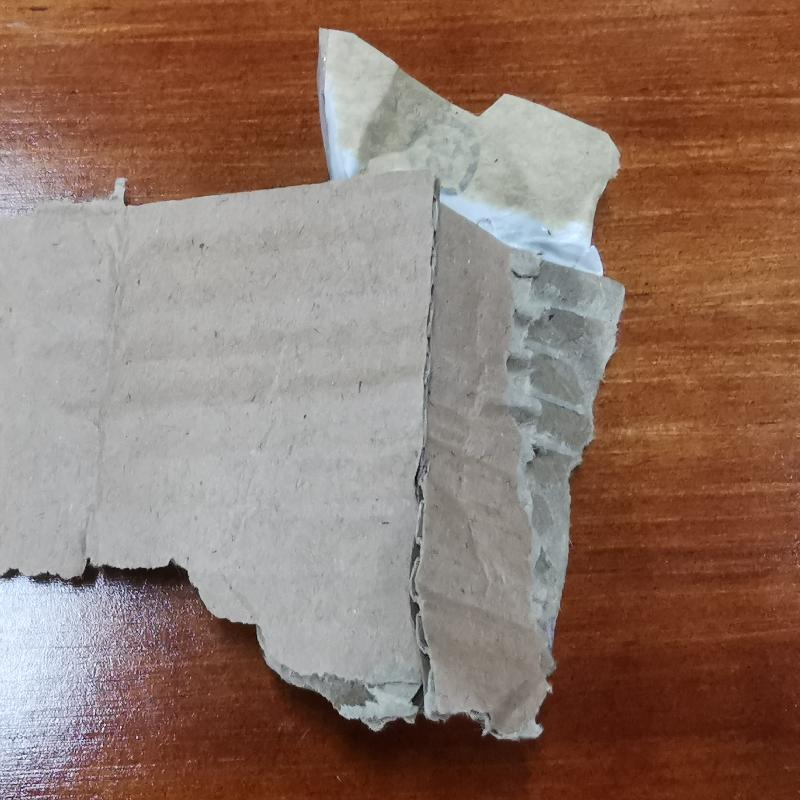boxes: (6, 34, 629, 747)
